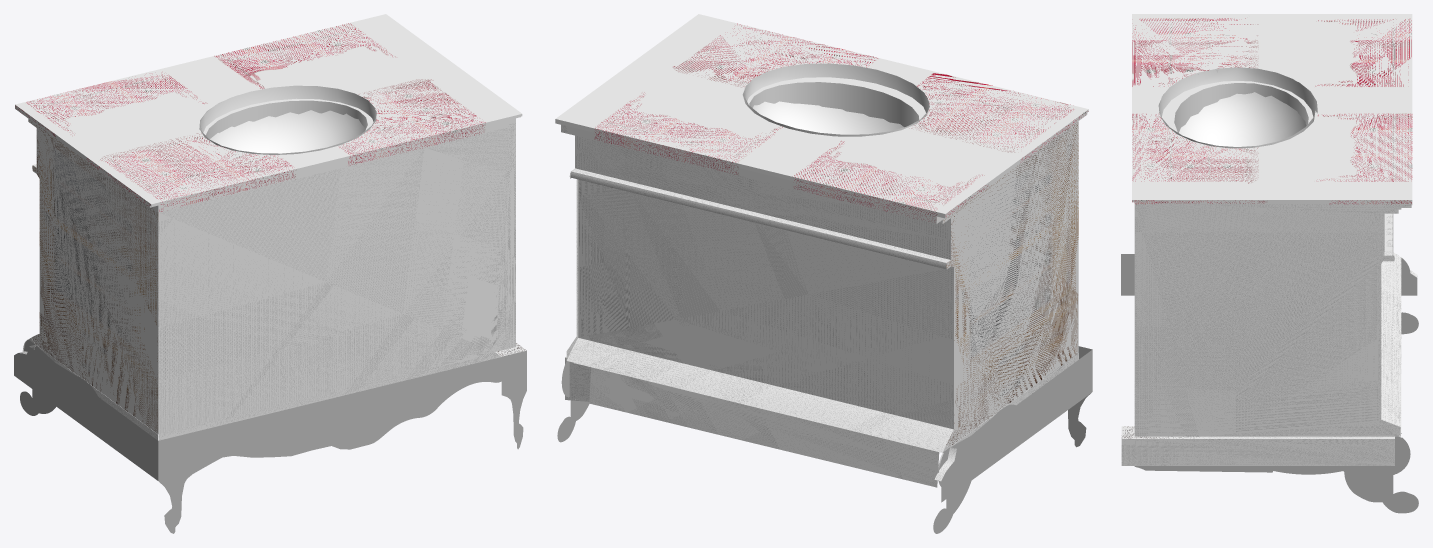
3 views of the same model, side by side, from view 1: azimuth 30°, elevation 25°; view 2: azimuth 150°, elevation 25°; view 3: azimuth 270°, elevation 25° (orthographic). The views are drawn at different scales.
Visible parts, largest first — view 1: mesh2_mesh2-geometry, mesh1_mesh1-geometry; view 2: mesh2_mesh2-geometry, mesh3_mesh3-geometry, mesh1_mesh1-geometry; view 3: mesh2_mesh2-geometry, mesh1_mesh1-geometry.
Part boxes in pixels (x1,y1,x2,y2): mesh2_mesh2-geometry: [14, 14, 526, 533]; mesh1_mesh1-geometry: [200, 85, 376, 154]; mesh2_mesh2-geometry: [555, 14, 1092, 533]; mesh3_mesh3-geometry: [589, 367, 939, 487]; mesh1_mesh1-geometry: [744, 63, 929, 136]; mesh2_mesh2-geometry: [1121, 14, 1418, 513]; mesh1_mesh1-geometry: [1159, 67, 1315, 148].
Bounding box in the file's own units: 0.6766 × 0.5767 × 0.4578.
